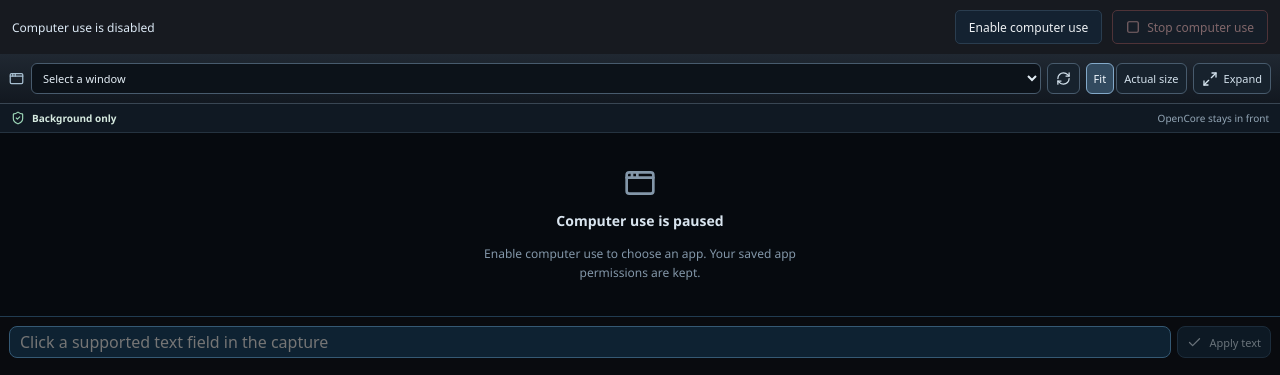
Test: starts disabled and enables computer use with one click while preserving saved app permissions
Expected: the text "Computer use is disabled" is shown, [12, 18, 155, 36]
Step 1. Click the button "Enable computer use" → click(1028, 27), box [955, 10, 1102, 44]
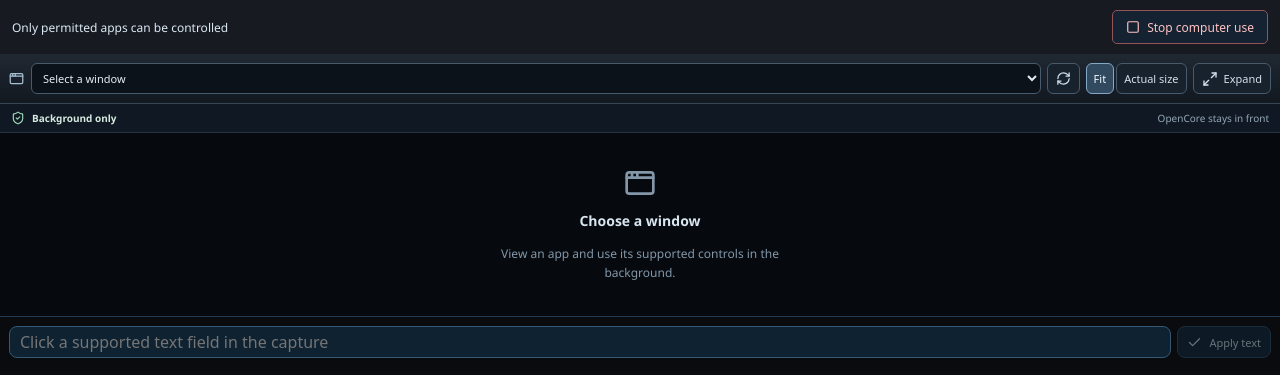
Now the text "Only permitted apps can be controlled" is shown, box [12, 18, 228, 36]
